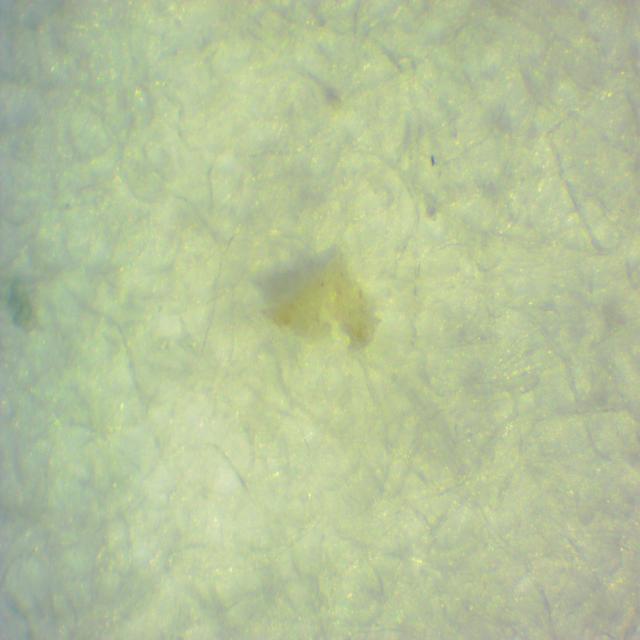microplastic: (267, 250, 381, 353)
